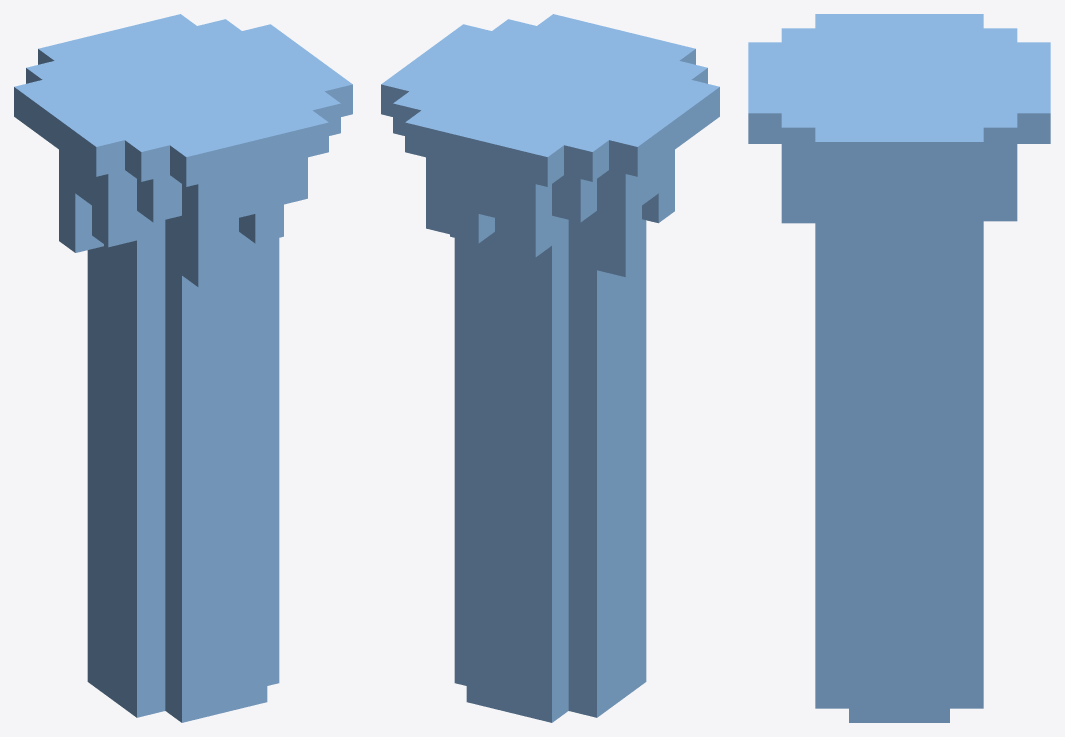
Rendered from pillar.glb.
The picture shows the model from 3 angles, left to right: view 1: azimuth 30°, elevation 25°; view 2: azimuth 150°, elevation 25°; view 3: azimuth 270°, elevation 25°; orthographic projection. The views are drawn at different scales.
Visible parts, largest first — view 1: Untitled; view 2: Untitled; view 3: Untitled.
Boxes of the visible parts, x1=… form: Untitled: x1=14, y1=14, x2=352, y2=722; Untitled: x1=381, y1=14, x2=719, y2=722; Untitled: x1=748, y1=14, x2=1050, y2=722.
Bounding box in the file's own units: 0.9 × 2 × 0.9.
Materials: 1 (1 with a texture image).
